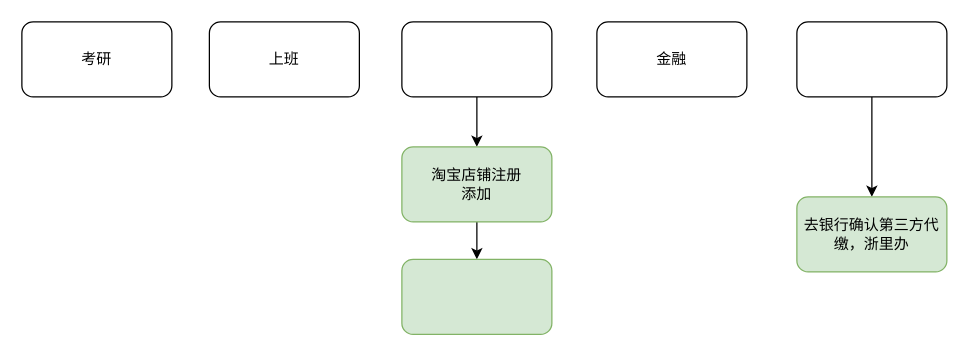
Image size: 969x356. Some labels were removed from this diagram. The centre of each missing label's shape, as x and y in pixels:
"公司" belongs at point 871,59.
"店铺" belongs at point 476,59.
"需申请生产许可证" belongs at point 476,296.
